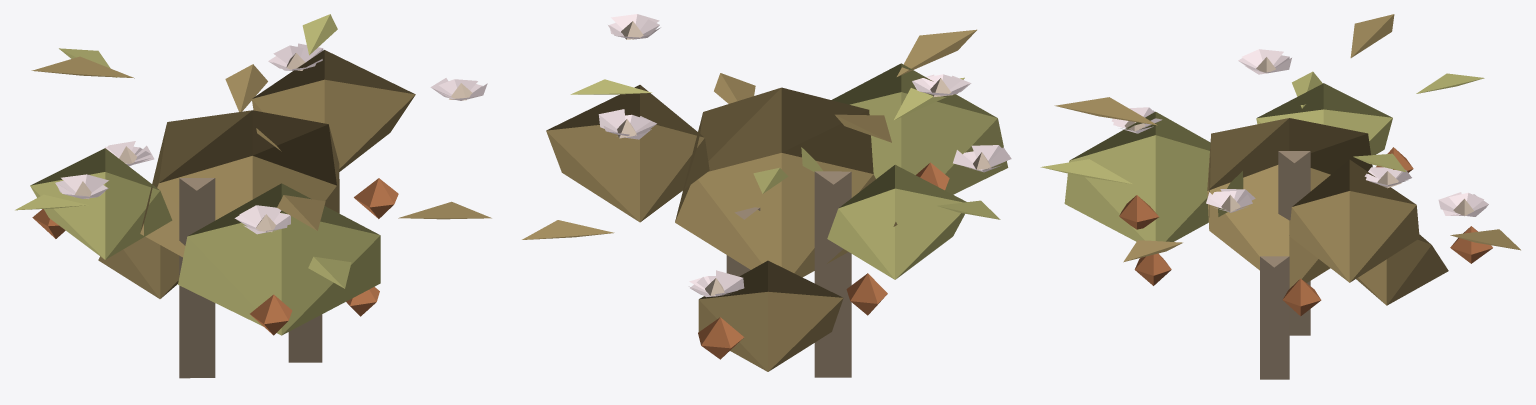
File: nong.da__autumn.glb
The picture shows the model from 3 angles, left to right: view 1: azimuth 30°, elevation 25°; view 2: azimuth 150°, elevation 25°; view 3: azimuth 270°, elevation 25°; orthographic projection. The views are drawn at different scales.
Parts seen in each view (by area): view 1: nong.da__autumn; view 2: nong.da__autumn; view 3: nong.da__autumn.
Boxes of the visible parts, x1,y1,x2,y2 form: nong.da__autumn: (15,14,491,378); nong.da__autumn: (522,14,1011,377); nong.da__autumn: (1040,14,1520,379).
Size of the model in its own units: 1.42 by 0.966 by 1.51.
